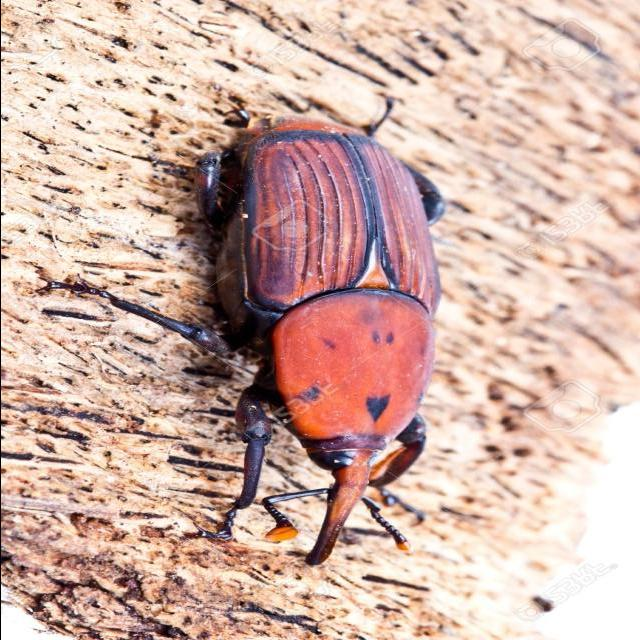Red-palm-weevil: (204, 107, 444, 584)
